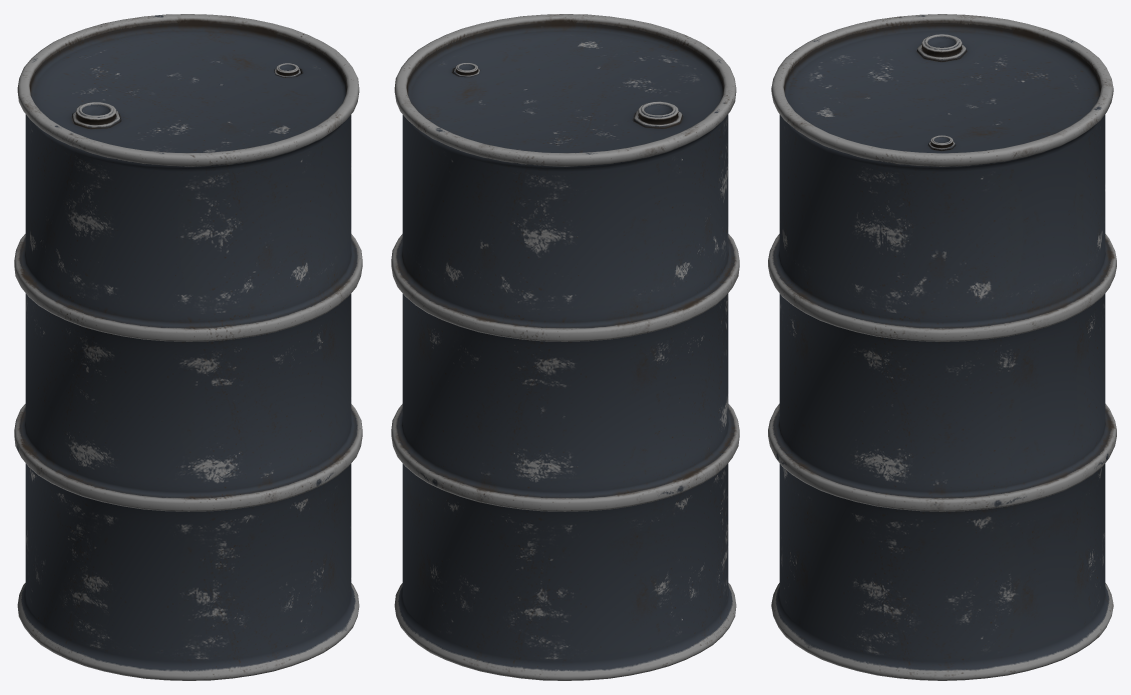
Rendered from barrel_steel.glb.
The picture shows the model from 3 angles, left to right: view 1: azimuth 30°, elevation 25°; view 2: azimuth 150°, elevation 25°; view 3: azimuth 270°, elevation 25°; orthographic projection.
Visible parts, largest first — view 1: Barrel; view 2: Barrel; view 3: Barrel.
Part boxes in pixels (box(x1,y1,x2,y2)): Barrel: box(14, 14, 362, 680); Barrel: box(391, 14, 739, 680); Barrel: box(768, 14, 1116, 680).
Bounding box in the file's own units: 0.4243 × 0.7045 × 0.4243.
1 material, 1 textured.
